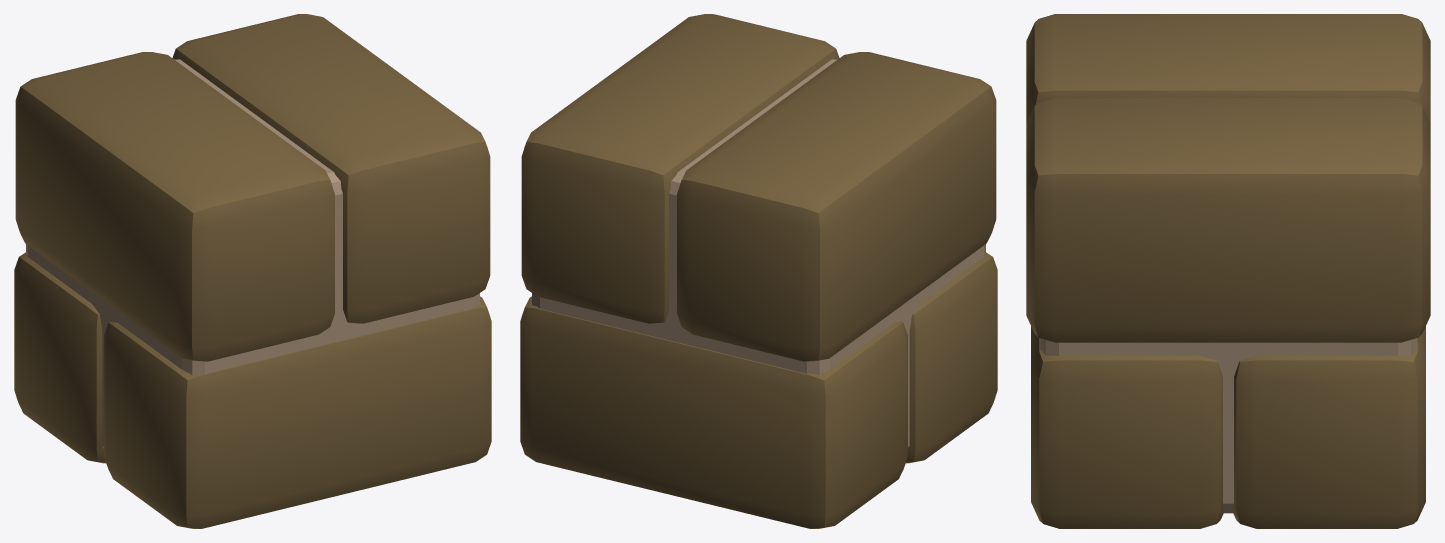
Rendered from quaternius-cube-world-block-brick.glb.
3 views of the same model, side by side, from view 1: azimuth 30°, elevation 25°; view 2: azimuth 150°, elevation 25°; view 3: azimuth 270°, elevation 25° (orthographic). The views are drawn at different scales.
Visible parts, largest first — view 1: Block_Brick; view 2: Block_Brick; view 3: Block_Brick.
Boxes of the visible parts, <box> form: Block_Brick: <box>14,14,491,528</box>; Block_Brick: <box>520,14,997,528</box>; Block_Brick: <box>1026,14,1430,528</box>.
Bounding box in the file's own units: 1.97 × 1.98 × 1.97.
Materials: 1 (1 with a texture image).
